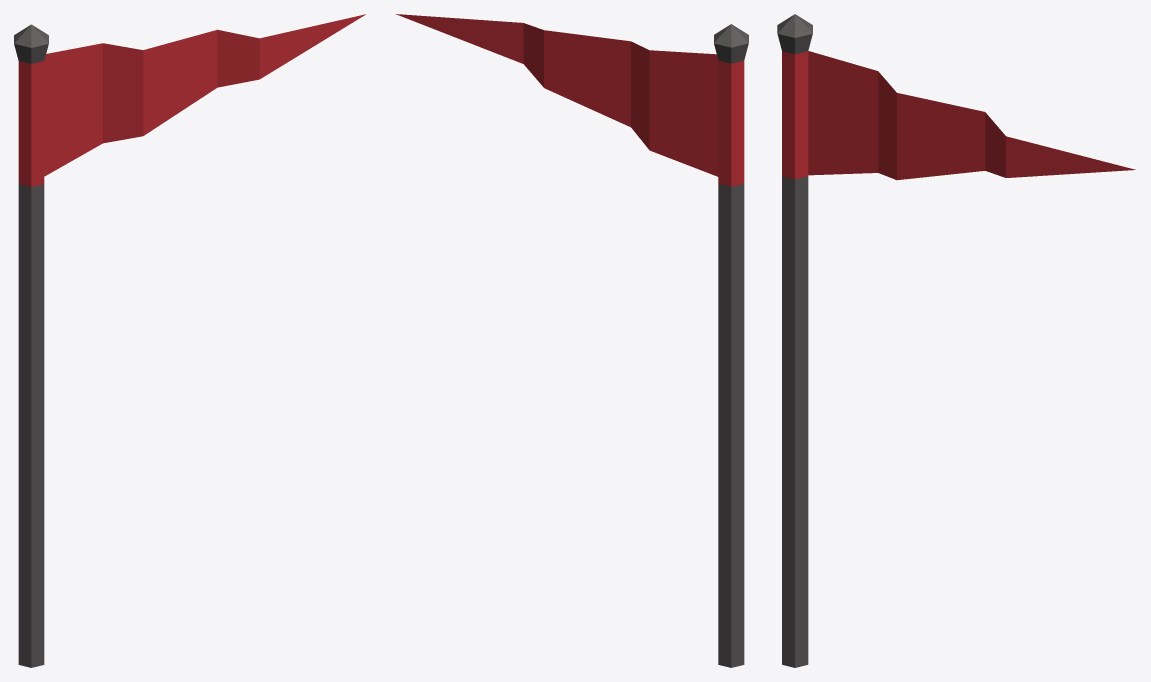
File: flag-medieval.glb
The picture shows the model from 3 angles, left to right: view 1: azimuth 30°, elevation 25°; view 2: azimuth 150°, elevation 25°; view 3: azimuth 330°, elevation 25°; orthographic projection.
Parts seen in each view (by area): view 1: flag-medieval; view 2: flag-medieval; view 3: flag-medieval.
Part boxes in pixels (<box>): flag-medieval: <box>14,14,365,667</box>; flag-medieval: <box>396,14,748,667</box>; flag-medieval: <box>777,14,1135,667</box>.
Size of the model in its own units: 2.73 by 4.7 by 0.2543.
1 material, 1 textured.
